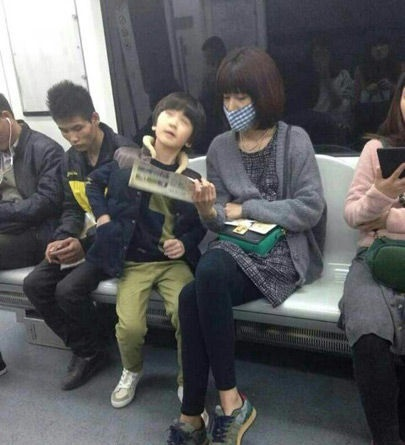face: (155, 103, 192, 146), (57, 115, 92, 151), (370, 37, 388, 60)
face_mask: (223, 81, 257, 129)
